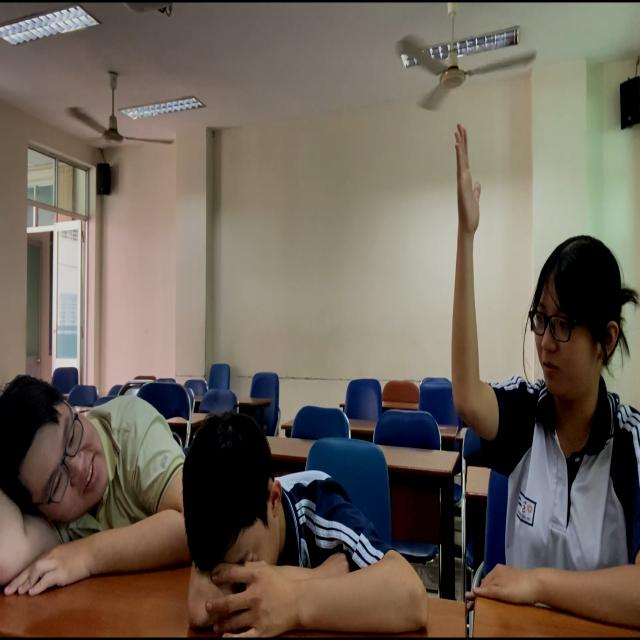raise_hand: (446, 113, 640, 640)
sleep: (178, 398, 436, 640)
